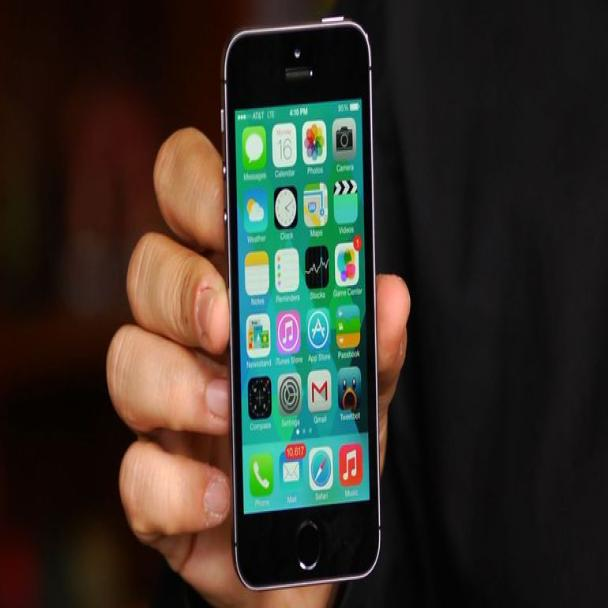Handphone: (221, 20, 381, 590)
